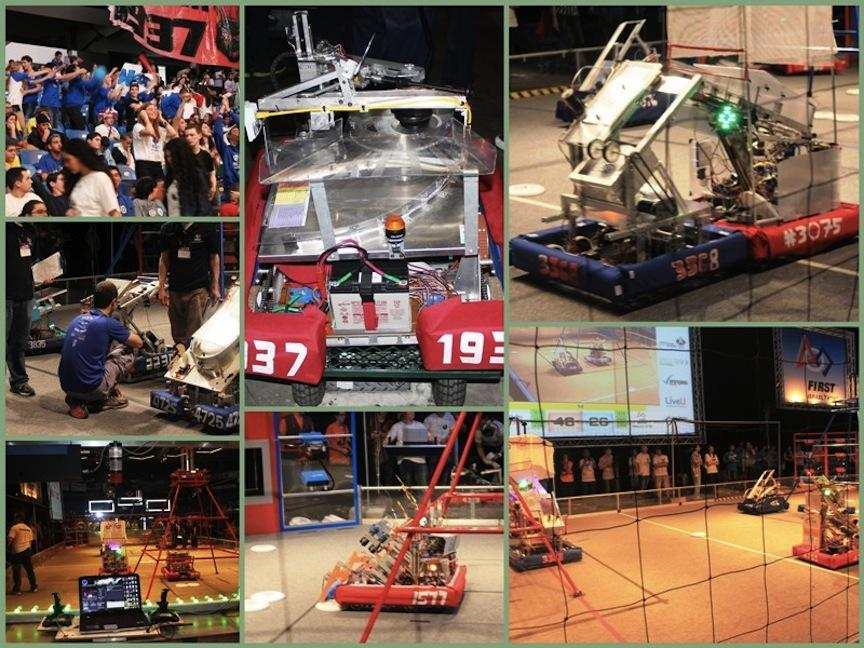robot: (244, 5, 505, 389), (509, 23, 745, 310), (663, 40, 860, 280), (324, 465, 481, 623), (144, 298, 241, 438), (503, 458, 602, 577), (90, 288, 181, 387), (786, 465, 864, 575), (23, 269, 75, 365), (737, 463, 789, 526), (156, 545, 207, 585), (92, 537, 137, 578)
